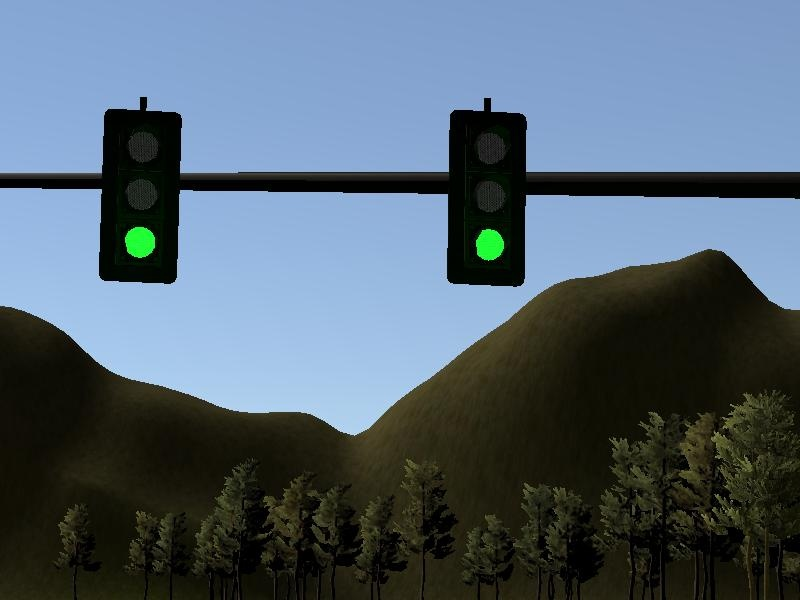GREEN: (99, 107, 182, 286), (445, 109, 528, 288)
